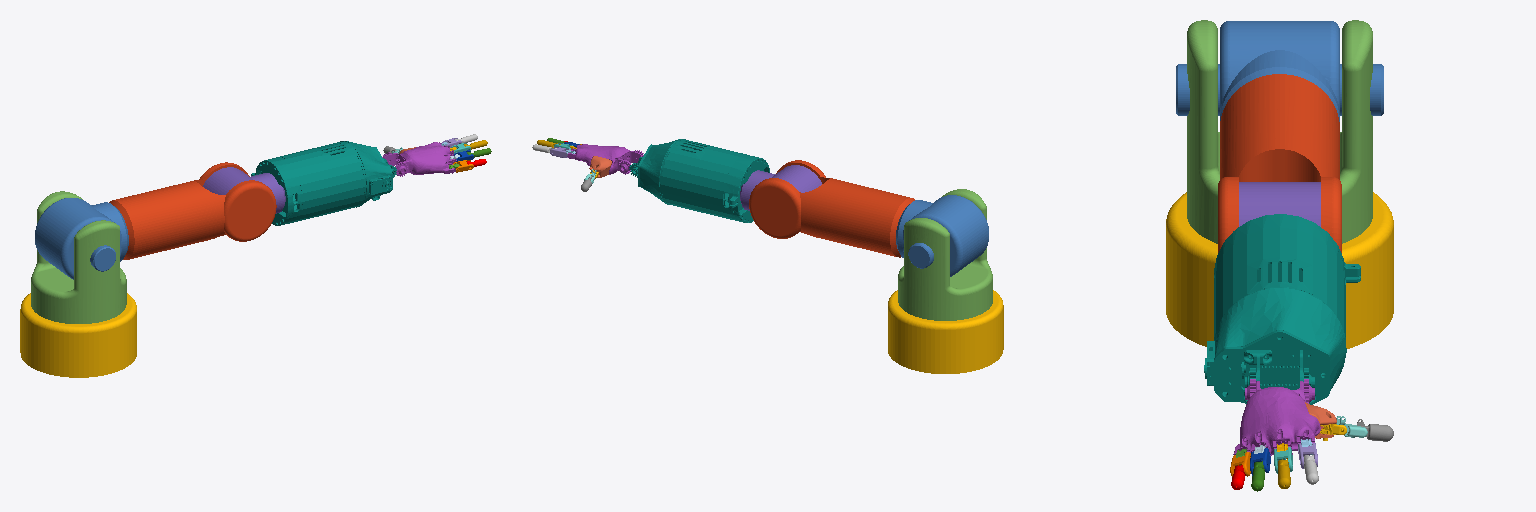
--- What the picture shows (computed from the rendered views, not written in the file) ---
3 views of the same robot in one strip: view 1: azimuth 30°, elevation 25°; view 2: azimuth 150°, elevation 25°; view 3: azimuth 270°, elevation 25° (orthographic).
Model [local-path]\Documents\NU robotics hand\hand teleop\arm_urdf with 25 links and 24 joints (24 revolute), rooted at ground, posed every joint at zero.
Links seen in each view (by area): view 1: upper_arm, base_2, base, ground, shoulder, palm_solid, elbow; view 2: upper_arm, base_2, base, ground, shoulder, elbow, palm_solid; view 3: base_2, upper_arm, base, ground, shoulder, palm_solid, elbow.
Link boxes in pixels (left/top/right/bottom): upper_arm: left=109, top=162, right=276, bottom=259; base_2: left=251, top=141, right=396, bottom=225; base: left=31, top=191, right=126, bottom=323; ground: left=20, top=293, right=136, bottom=377; shoulder: left=35, top=198, right=128, bottom=279; palm_solid: left=382, top=142, right=456, bottom=176; elbow: left=203, top=167, right=285, bottom=213; upper_arm: left=749, top=160, right=914, bottom=257; base_2: left=629, top=139, right=769, bottom=222; base: left=898, top=189, right=992, bottom=320; ground: left=888, top=290, right=1003, bottom=373; shoulder: left=896, top=195, right=988, bottom=276; elbow: left=740, top=165, right=821, bottom=210; palm_solid: left=567, top=144, right=643, bottom=174; base_2: left=1204, top=214, right=1360, bottom=404; upper_arm: left=1218, top=74, right=1341, bottom=252; base: left=1187, top=20, right=1372, bottom=243; ground: left=1166, top=192, right=1393, bottom=348; shoulder: left=1176, top=21, right=1383, bottom=121; palm_solid: left=1233, top=379, right=1320, bottom=455; elbow: left=1239, top=182, right=1320, bottom=226.
Bounding box of the posed robot: 1 × 0.2201 × 0.302 m (x, y, z).
Meshes: 26 distinct files referenced, 24 mesh visuals loaded (24 binary STL); not drawn: 3 (reference not matched to a file when rendering).

robot.urdf — [local-path]\Documents\NU robotics hand\hand teleop\arm_urdf:
<?xml version="1.0" ?>
<!-- Generated using onshape-to-robot -->
<!-- Onshape https://cad.onshape.com/documents/44d65dc8544a56cf71da3f0a/w/972a27a2efc9b3919ab3a95b/e/e91fcd8ebfee97c1ce23ea10 -->
<robot name="[local-path]\Documents\NU robotics hand\hand teleop\arm_urdf">
  <!-- Link ground -->
  <link name="ground">
    <inertial>
      <origin xyz="0 0 0" rpy="0 0 0"/>
      <mass value="1e-09"/>
      <inertia ixx="1e-09" ixy="0" ixz="0" iyy="1e-09" iyz="0" izz="1e-09"/>
    </inertial>
    <!-- Part ground -->
    <visual>
      <origin xyz="0 5.44968e-18 0.082" rpy="1.5708 -0 0"/>
      <geometry>
        <mesh filename="package://assets\ground.stl"/>
      </geometry>
      <material name="ground_material">
        <color rgba="1 0.756863 0.054902 1"/>
      </material>
    </visual>
    <collision>
      <origin xyz="0 5.44968e-18 0.082" rpy="1.5708 -0 0"/>
      <geometry>
        <mesh filename="package://assets\ground.stl"/>
      </geometry>
    </collision>
  </link>
  <!-- Link base -->
  <link name="base">
    <inertial>
      <origin xyz="0 -9.60797e-07 -0.132919" rpy="0 0 0"/>
      <mass value="2.40324"/>
      <inertia ixx="0.00456464" ixy="-6.7298e-07" ixz="6.7298e-07" iyy="0.029311" iyz="1.32847e-07" izz="0.029311"/>
    </inertial>
    <!-- Part actuator_single_part -->
    <visual>
      <origin xyz="-0.124008 9.36751e-17 -0.132918" rpy="-1.5708 -7.14845e-27 -1.5708"/>
      <geometry>
        <mesh filename="package://assets\actuator_single_part.stl"/>
      </geometry>
      <material name="actuator_single_part_material">
        <color rgba="0.917647 0.917647 0.917647 1"/>
      </material>
    </visual>
    <collision>
      <origin xyz="-0.124008 9.36751e-17 -0.132918" rpy="-1.5708 -7.14845e-27 -1.5708"/>
      <geometry>
        <mesh filename="package://assets\actuator_single_part.stl"/>
      </geometry>
    </collision>
    <!-- Part base -->
    <visual>
      <origin xyz="0 0 0.02" rpy="-1.5708 -0 6.41283e-50"/>
      <geometry>
        <mesh filename="package://assets\base.stl"/>
      </geometry>
      <material name="base_material">
        <color rgba="0.513725 0.737255 0.407843 1"/>
      </material>
    </visual>
    <collision>
      <origin xyz="0 0 0.02" rpy="-1.5708 -0 6.41283e-50"/>
      <geometry>
        <mesh filename="package://assets\base.stl"/>
      </geometry>
    </collision>
    <!-- Part actuator_single_part_2 -->
    <visual>
      <origin xyz="0.124008 -1.38152e-16 -0.132918" rpy="-3.14159 1.5708 0"/>
      <geometry>
        <mesh filename="package://assets\actuator_single_part.stl"/>
      </geometry>
      <material name="actuator_single_part_2_material">
        <color rgba="0.917647 0.917647 0.917647 1"/>
      </material>
    </visual>
    <collision>
      <origin xyz="0.124008 -1.38152e-16 -0.132918" rpy="-3.14159 1.5708 0"/>
      <geometry>
        <mesh filename="package://assets\actuator_single_part.stl"/>
      </geometry>
    </collision>
  </link>
  <!-- Link shoulder -->
  <link name="shoulder">
    <inertial>
      <origin xyz="0 0 0" rpy="0 0 0"/>
      <mass value="1e-09"/>
      <inertia ixx="1e-09" ixy="0" ixz="0" iyy="1e-09" iyz="0" izz="1e-09"/>
    </inertial>
    <!-- Part shoulder -->
    <visual>
      <origin xyz="-0.152918 1.22322e-17 -0.1" rpy="-1.5708 -1.5708 0"/>
      <geometry>
        <mesh filename="package://assets\shoulder.stl"/>
      </geometry>
      <material name="shoulder_material">
        <color rgba="0.32549 0.529412 0.752941 1"/>
      </material>
    </visual>
    <collision>
      <origin xyz="-0.152918 1.22322e-17 -0.1" rpy="-1.5708 -1.5708 0"/>
      <geometry>
        <mesh filename="package://assets\shoulder.stl"/>
      </geometry>
    </collision>
  </link>
  <!-- Link upper_arm -->
  <link name="upper_arm">
    <inertial>
      <origin xyz="0 0 0" rpy="0 0 0"/>
      <mass value="1e-09"/>
      <inertia ixx="1e-09" ixy="0" ixz="0" iyy="1e-09" iyz="0" izz="1e-09"/>
    </inertial>
    <!-- Part upper_arm -->
    <visual>
      <origin xyz="9.86076e-32 0.152918 0.08" rpy="3.14159 -4.32131e-33 4.23705e-33"/>
      <geometry>
        <mesh filename="package://assets\upper_arm.stl"/>
      </geometry>
      <material name="upper_arm_material">
        <color rgba="0.866667 0.321569 0.156863 1"/>
      </material>
    </visual>
    <collision>
      <origin xyz="9.86076e-32 0.152918 0.08" rpy="3.14159 -4.32131e-33 4.23705e-33"/>
      <geometry>
        <mesh filename="package://assets\upper_arm.stl"/>
      </geometry>
    </collision>
  </link>
  <!-- Link elbow -->
  <link name="elbow">
    <inertial>
      <origin xyz="0 0 0" rpy="0 0 0"/>
      <mass value="1e-09"/>
      <inertia ixx="1e-09" ixy="0" ixz="0" iyy="1e-09" iyz="0" izz="1e-09"/>
    </inertial>
    <!-- Part elbow -->
    <visual>
      <origin xyz="-0.152918 -0.34 -0.04" rpy="-1.5708 -1.5708 0"/>
      <geometry>
        <mesh filename="package://assets\elbow.stl"/>
      </geometry>
      <material name="elbow_material">
        <color rgba="0.513725 0.415686 0.733333 1"/>
      </material>
    </visual>
    <collision>
      <origin xyz="-0.152918 -0.34 -0.04" rpy="-1.5708 -1.5708 0"/>
      <geometry>
        <mesh filename="package://assets\elbow.stl"/>
      </geometry>
    </collision>
  </link>
  <!-- Link base_2 -->
  <link name="base_2">
    <inertial>
      <origin xyz="0 0 0" rpy="0 0 0"/>
      <mass value="1e-09"/>
      <inertia ixx="1e-09" ixy="0" ixz="0" iyy="1e-09" iyz="0" izz="1e-09"/>
    </inertial>
    <!-- Part base_2 -->
    <visual>
      <origin xyz="-0.00205515 0.0111278 -0.300889" rpy="-1.5708 -3.45716e-31 8.66668e-33"/>
      <geometry>
        <mesh filename="package://assets\base__2.stl"/>
      </geometry>
      <material name="base_2_material">
        <color rgba="0.0941176 0.580392 0.545098 1"/>
      </material>
    </visual>
    <collision>
      <origin xyz="-0.00205515 0.0111278 -0.300889" rpy="-1.5708 -3.45716e-31 8.66668e-33"/>
      <geometry>
        <mesh filename="package://assets\base__2.stl"/>
      </geometry>
    </collision>
  </link>
  <!-- Link intermediate_link -->
  <link name="intermediate_link">
    <inertial>
      <origin xyz="0 0 0" rpy="0 0 0"/>
      <mass value="1e-09"/>
      <inertia ixx="1e-09" ixy="0" ixz="0" iyy="1e-09" iyz="0" izz="1e-09"/>
    </inertial>
    <!-- Part intermediate_link -->
    <visual>
      <origin xyz="0.0683891 -0.00812779 0.0358367" rpy="1.5708 1.5708 0"/>
      <geometry>
        <mesh filename="package://assets\intermediate_link.stl"/>
      </geometry>
      <material name="intermediate_link_material">
        <color rgba="0.980392 0.713725 0.00392157 1"/>
      </material>
    </visual>
    <collision>
      <origin xyz="0.0683891 -0.00812779 0.0358367" rpy="1.5708 1.5708 0"/>
      <geometry>
        <mesh filename="package://assets\intermediate_link.stl"/>
      </geometry>
    </collision>
  </link>
  <!-- Link palm_solid -->
  <link name="palm_solid">
    <inertial>
      <origin xyz="0 0 0" rpy="0 0 0"/>
      <mass value="1e-09"/>
      <inertia ixx="1e-09" ixy="0" ixz="0" iyy="1e-09" iyz="0" izz="1e-09"/>
    </inertial>
    <!-- Part palm_solid -->
    <visual>
      <origin xyz="0.0431891 0.00812779 -0.0355367" rpy="-1.5708 -1.5708 0"/>
      <geometry>
        <mesh filename="package://assets\palm_solid.stl"/>
      </geometry>
      <material name="palm_solid_material">
        <color rgba="0.682353 0.333333 0.737255 1"/>
      </material>
    </visual>
    <collision>
      <origin xyz="0.0431891 0.00812779 -0.0355367" rpy="-1.5708 -1.5708 0"/>
      <geometry>
        <mesh filename="package://assets\palm_solid.stl"/>
      </geometry>
    </collision>
  </link>
  <!-- Link thumb_intermediate_v1 -->
  <link name="thumb_intermediate_v1">
    <inertial>
      <origin xyz="0 0 0" rpy="0 0 0"/>
      <mass value="1e-09"/>
      <inertia ixx="1e-09" ixy="0" ixz="0" iyy="1e-09" iyz="0" izz="1e-09"/>
    </inertial>
    <!-- Part thumb_intermediate_v1 -->
    <visual>
      <origin xyz="-0.00989613 -0.00238569 0.000259753" rpy="-1.31743 0.17263 8.53444e-18"/>
      <geometry>
        <mesh filename="package://assets\thumb_intermediate_v1.stl"/>
      </geometry>
      <material name="thumb_intermediate_v1_material">
        <color rgba="0.513725 0.737255 0.407843 1"/>
      </material>
    </visual>
    <collision>
      <origin xyz="-0.00989613 -0.00238569 0.000259753" rpy="-1.31743 0.17263 8.53444e-18"/>
      <geometry>
        <mesh filename="package://assets\thumb_intermediate_v1.stl"/>
      </geometry>
    </collision>
  </link>
  <!-- Link thumb_palm_section -->
  <link name="thumb_palm_section">
    <inertial>
      <origin xyz="0 0 0" rpy="0 0 0"/>
      <mass value="1e-09"/>
      <inertia ixx="1e-09" ixy="0" ixz="0" iyy="1e-09" iyz="0" izz="1e-09"/>
    </inertial>
    <!-- Part thumb_palm_section -->
    <visual>
      <origin xyz="-0.0217843 0.00434121 0.000740247" rpy="1.82417 -0.17263 -3.79536e-18"/>
      <geometry>
        <mesh filename="package://assets\thumb_palm_section.stl"/>
      </geometry>
      <material name="thumb_palm_section_material">
        <color rgba="0.87451 0.447059 0.317647 1"/>
      </material>
    </visual>
    <collision>
      <origin xyz="-0.0217843 0.00434121 0.000740247" rpy="1.82417 -0.17263 -3.79536e-18"/>
      <geometry>
        <mesh filename="package://assets\thumb_palm_section.stl"/>
      </geometry>
    </collision>
  </link>
  <!-- Link thumb_middle -->
  <link name="thumb_middle">
    <inertial>
      <origin xyz="0 0 0" rpy="0 0 0"/>
      <mass value="1e-09"/>
      <inertia ixx="1e-09" ixy="0" ixz="0" iyy="1e-09" iyz="0" izz="1e-09"/>
    </inertial>
    <!-- Part thumb_middle -->
    <visual>
      <origin xyz="-0.0477856 -0.00705829 -0.00679029" rpy="0.273385 0.114287 1.56584e-18"/>
      <geometry>
        <mesh filename="package://assets\thumb_middle.stl"/>
      </geometry>
      <material name="thumb_middle_material">
        <color rgba="1 0.756863 0.054902 1"/>
      </material>
    </visual>
    <collision>
      <origin xyz="-0.0477856 -0.00705829 -0.00679029" rpy="0.273385 0.114287 1.56584e-18"/>
      <geometry>
        <mesh filename="package://assets\thumb_middle.stl"/>
      </geometry>
    </collision>
  </link>
  <!-- Link thumb_middle_2 -->
  <link name="thumb_middle_2">
    <inertial>
      <origin xyz="0 0 0" rpy="0 0 0"/>
      <mass value="1e-09"/>
      <inertia ixx="1e-09" ixy="0" ixz="0" iyy="1e-09" iyz="0" izz="1e-09"/>
    </inertial>
    <!-- Part thumb_middle_2 -->
    <visual>
      <origin xyz="-0.0592938 -0.00820927 0.0104142" rpy="-1.31743 0.17263 1.27438e-17"/>
      <geometry>
        <mesh filename="package://assets\thumb_middle__2.stl"/>
      </geometry>
      <material name="thumb_middle_2_material">
        <color rgba="0.537255 0.854902 0.827451 1"/>
      </material>
    </visual>
    <collision>
      <origin xyz="-0.0592938 -0.00820927 0.0104142" rpy="-1.31743 0.17263 1.27438e-17"/>
      <geometry>
        <mesh filename="package://assets\thumb_middle__2.stl"/>
      </geometry>
    </collision>
  </link>
  <!-- Link thumb_tip -->
  <link name="thumb_tip">
    <inertial>
      <origin xyz="0 0 0" rpy="0 0 0"/>
      <mass value="1e-09"/>
      <inertia ixx="1e-09" ixy="0" ixz="0" iyy="1e-09" iyz="0" izz="1e-09"/>
    </inertial>
    <!-- Part thumb_tip -->
    <visual>
      <origin xyz="-0.0791251 -0.0108018 0.0122142" rpy="-1.31743 0.17263 -6.58129e-18"/>
      <geometry>
        <mesh filename="package://assets\thumb_tip.stl"/>
      </geometry>
      <material name="thumb_tip_material">
        <color rgba="0.6 0.6 0.6 1"/>
      </material>
    </visual>
    <collision>
      <origin xyz="-0.0791251 -0.0108018 0.0122142" rpy="-1.31743 0.17263 -6.58129e-18"/>
      <geometry>
        <mesh filename="package://assets\thumb_tip.stl"/>
      </geometry>
    </collision>
  </link>
  <!-- Joint from thumb_middle_2 to thumb_tip -->
  <joint name="thumb_4" type="revolute">
    <origin xyz="0.0198655 0.00231518 -0.00175" rpy="1.49558e-16 1.46949e-15 -9.24631e-17"/>
    <parent link="thumb_middle_2"/>
    <child link="thumb_tip"/>
    <axis xyz="0 0 1"/>
    <limit effort="10" velocity="10" lower="0" upper="1.5708"/>
  </joint>
  <!-- Joint from thumb_middle to thumb_middle_2 -->
  <joint name="thumb_3" type="revolute">
    <origin xyz="0.0128901 -0.0075423 -0.0055" rpy="1.5708 0.116019 -0.173775"/>
    <parent link="thumb_middle"/>
    <child link="thumb_middle_2"/>
    <axis xyz="0 0 1"/>
    <limit effort="10" velocity="10" lower="0" upper="1.5708"/>
  </joint>
  <!-- Joint from thumb_palm_section to thumb_middle -->
  <joint name="thumb_abd" type="revolute">
    <origin xyz="0.0230132 -0.00731315 0.0159544" rpy="1.5708 -0.173775 -0.116019"/>
    <parent link="thumb_palm_section"/>
    <child link="thumb_middle"/>
    <axis xyz="0 0 1"/>
    <limit effort="10" velocity="10" lower="-0.174533" upper="1.5708"/>
  </joint>
  <!-- Joint from thumb_intermediate_v1 to thumb_palm_section -->
  <joint name="thumb_2" type="revolute">
    <origin xyz="0.0118882 0.00195552 8.88178e-16" rpy="3.14159 5.97132e-17 1.21313e-17"/>
    <parent link="thumb_intermediate_v1"/>
    <child link="thumb_palm_section"/>
    <axis xyz="0 0 1"/>
    <limit effort="10" velocity="10" lower="-3.141592653589793" upper="3.141592653589793"/>
    <mimic joint="thumb_1" multiplier="-1.0"/>
  </joint>
  <!-- Joint from palm_solid to thumb_intermediate_v1 -->
  <joint name="thumb_1" type="revolute">
    <origin xyz="0.0415321 0.0113204 -0.0257823" rpy="3.14159 -1.39817 2.88822"/>
    <parent link="palm_solid"/>
    <child link="thumb_intermediate_v1"/>
    <axis xyz="0 0 1"/>
    <limit effort="10" velocity="10" lower="0" upper="0.785398"/>
  </joint>
  <!-- Link finger_intermediate -->
  <link name="finger_intermediate">
    <inertial>
      <origin xyz="0 0 0" rpy="0 0 0"/>
      <mass value="1e-09"/>
      <inertia ixx="1e-09" ixy="0" ixz="0" iyy="1e-09" iyz="0" izz="1e-09"/>
    </inertial>
    <!-- Part finger_intermediate -->
    <visual>
      <origin xyz="0.0164705 -0.0600499 -0.0337993" rpy="-0.25043 1.21142 -7.14711e-17"/>
      <geometry>
        <mesh filename="package://assets\finger_intermediate.stl"/>
      </geometry>
      <material name="finger_intermediate_material">
        <color rgba="0.372549 0.654902 0.239216 1"/>
      </material>
    </visual>
    <collision>
      <origin xyz="0.0164705 -0.0600499 -0.0337993" rpy="-0.25043 1.21142 -7.14711e-17"/>
      <geometry>
        <mesh filename="package://assets\finger_intermediate.stl"/>
      </geometry>
    </collision>
  </link>
  <!-- Link pinky_finger_middle -->
  <link name="pinky_finger_middle">
    <inertial>
      <origin xyz="0 0 0" rpy="0 0 0"/>
      <mass value="1e-09"/>
      <inertia ixx="1e-09" ixy="0" ixz="0" iyy="1e-09" iyz="0" izz="1e-09"/>
    </inertial>
    <!-- Part pinky_finger_middle -->
    <visual>
      <origin xyz="0.0196463 0.0716718 0.0337993" rpy="2.89116 -1.21142 -3.78033e-17"/>
      <geometry>
        <mesh filename="package://assets\pinky_finger_middle.stl"/>
      </geometry>
      <material name="pinky_finger_middle_material">
        <color rgba="0.972549 0.529412 0.00392157 1"/>
      </material>
    </visual>
    <collision>
      <origin xyz="0.0196463 0.0716718 0.0337993" rpy="2.89116 -1.21142 -3.78033e-17"/>
      <geometry>
        <mesh filename="package://assets\pinky_finger_middle.stl"/>
      </geometry>
    </collision>
  </link>
  <!-- Link pinky_finger_tip -->
  <link name="pinky_finger_tip">
    <inertial>
      <origin xyz="0 0 0" rpy="0 0 0"/>
      <mass value="1e-09"/>
      <inertia ixx="1e-09" ixy="0" ixz="0" iyy="1e-09" iyz="0" izz="1e-09"/>
    </inertial>
    <!-- Part pinky_finger_tip -->
    <visual>
      <origin xyz="0.0262361 -0.0957876 -0.0337993" rpy="-0.25043 1.21142 -2.01428e-17"/>
      <geometry>
        <mesh filename="package://assets\pinky_finger_tip.stl"/>
      </geometry>
      <material name="pinky_finger_tip_material">
        <color rgba="1 0 0 1"/>
      </material>
    </visual>
    <collision>
      <origin xyz="0.0262361 -0.0957876 -0.0337993" rpy="-0.25043 1.21142 -2.01428e-17"/>
      <geometry>
        <mesh filename="package://assets\pinky_finger_tip.stl"/>
      </geometry>
    </collision>
  </link>
  <!-- Joint from pinky_finger_middle to pinky_finger_tip -->
  <joint name="pinky_3" type="revolute">
    <origin xyz="-0.00658981 -0.0241159 1.38778e-17" rpy="-3.14159 5.60477e-17 -4.80606e-14"/>
    <parent link="pinky_finger_middle"/>
    <child link="pinky_finger_tip"/>
    <axis xyz="0 0 1"/>
    <limit effort="10" velocity="10" lower="-1.91986" upper="4.79616e-14"/>
  </joint>
  <!-- Joint from finger_intermediate to pinky_finger_middle -->
  <joint name="pinky_2" type="revolute">
    <origin xyz="-0.00317575 0.0116219 -4.16334e-17" rpy="3.14159 -1.74128e-16 -5.94739e-16"/>
    <parent link="finger_intermediate"/>
    <child link="pinky_finger_middle"/>
    <axis xyz="0 0 1"/>
    <limit effort="10" velocity="10" lower="0" upper="0.785398"/>
    <mimic joint="pinky_1" multiplier="-1.0"/>
  </joint>
  <!-- Joint from palm_solid to finger_intermediate -->
  <joint name="pinky_1" type="revolute">
    <origin xyz="0.102144 0.0193138 -0.0731018" rpy="3.14159 -0.359375 1.82123"/>
    <parent link="palm_solid"/>
    <child link="finger_intermediate"/>
    <axis xyz="0 0 1"/>
    <limit effort="10" velocity="10" lower="-0.785398" upper="0"/>
  </joint>
  <!-- Link index_finger_intermediate -->
  <link name="index_finger_intermediate">
    <inertial>
      <origin xyz="0 0 0" rpy="0 0 0"/>
      <mass value="1e-09"/>
      <inertia ixx="1e-09" ixy="0" ixz="0" iyy="1e-09" iyz="0" izz="1e-09"/>
    </inertial>
    <!-- Part index_finger_intermediate -->
    <visual>
      <origin xyz="-0.0611244 -0.0420268 0.0174182" rpy="1.04885 1.48361 5.54537e-17"/>
      <geometry>
        <mesh filename="package://assets\index_finger_intermediate.stl"/>
      </geometry>
      <material name="index_finger_intermediate_material">
        <color rgba="0.615686 0.811765 0.929412 1"/>
      </material>
    </visual>
    <collision>
      <origin xyz="-0.0611244 -0.0420268 0.0174182" rpy="1.04885 1.48361 5.54537e-17"/>
      <geometry>
        <mesh filename="package://assets\index_finger_intermediate.stl"/>
      </geometry>
    </collision>
  </link>
  <!-- Link hand_v2_index_finger_middle_v1 -->
  <link name="hand_v2_index_finger_middle_v1">
    <inertial>
      <origin xyz="0 0 0" rpy="0 0 0"/>
      <mass value="1e-09"/>
      <inertia ixx="1e-09" ixy="0" ixz="0" iyy="1e-09" iyz="0" izz="1e-09"/>
    </inertial>
    <!-- Part hand_v2_index_finger_middle_v1 -->
    <visual>
      <origin xyz="-0.0715781 -0.0480165 0.0274182" rpy="1.04885 1.48361 -4.8223e-17"/>
      <geometry>
        <mesh filename="package://assets\hand_v2_index_finger_middle_v1.stl"/>
      </geometry>
      <material name="hand_v2_index_finger_middle_v1_material">
        <color rgba="0.654902 0.584314 0.823529 1"/>
      </material>
    </visual>
    <collision>
      <origin xyz="-0.0715781 -0.0480165 0.0274182" rpy="1.04885 1.48361 -4.8223e-17"/>
      <geometry>
        <mesh filename="package://assets\hand_v2_index_finger_middle_v1.stl"/>
      </geometry>
    </collision>
  </link>
  <!-- Link hand_v2_index_finger_tip_v1 -->
  <link name="hand_v2_index_finger_tip_v1">
    <inertial>
      <origin xyz="0 0 0" rpy="0 0 0"/>
      <mass value="1e-09"/>
      <inertia ixx="1e-09" ixy="0" ixz="0" iyy="1e-09" iyz="0" izz="1e-09"/>
    </inertial>
    <!-- Part hand_v2_index_finger_tip_v1 -->
    <visual>
      <origin xyz="-0.0932697 0.0604451 -0.0274182" rpy="-2.09275 -1.48361 1.2301e-17"/>
      <geometry>
        <mesh filename="package://assets\hand_v2_index_finger_tip_v1.stl"/>
      </geometry>
      <material name="hand_v2_index_finger_tip_v1_material">
        <color rgba="0.8 0.8 0.8 1"/>
      </material>
    </visual>
    <collision>
      <origin xyz="-0.0932697 0.0604451 -0.0274182" rpy="-2.09275 -1.48361 1.2301e-17"/>
      <geometry>
        <mesh filename="package://assets\hand_v2_index_finger_tip_v1.stl"/>
      </geometry>
    </collision>
  </link>
  <!-- Joint from hand_v2_index_finger_middle_v1 to hand_v2_index_finger_tip_v1 -->
  <joint name="index_3" type="revolute">
    <origin xyz="0.0216917 0.0124287 -5.55112e-17" rpy="-3.14159 -1.11923e-14 9.36753e-14"/>
    <parent link="hand_v2_index_finger_middle_v1"/>
    <child link="hand_v2_index_finger_tip_v1"/>
    <axis xyz="0 0 1"/>
    <limit effort="10" velocity="10" lower="0" upper="1.91986"/>
  </joint>
  <!-- Joint from index_finger_intermediate to hand_v2_index_finger_middle_v1 -->
  <joint name="index_2" type="revolute">
    <origin xyz="0.0104536 0.00598961 -0.01" rpy="-2.68081e-15 -7.18816e-15 -6.37445e-15"/>
    <parent link="index_finger_intermediate"/>
    <child link="hand_v2_index_finger_middle_v1"/>
    <axis xyz="0 0 1"/>
    <limit effort="10" velocity="10" lower="-0.785398" upper="7.10543e-15"/>
    <mimic joint="index_1" multiplier="1.0"/>
  </joint>
  <!-- Joint from palm_solid to index_finger_intermediate -->
  <joint name="index_1" type="revolute">
    <origin xyz="0.115516 0.00102561 -0.0129949" rpy="-3.14159 -0.0871834 0.521949"/>
    <parent link="palm_solid"/>
    <child link="index_finger_intermediate"/>
    <axis xyz="0 0 1"/>
    <limit effort="10" velocity="10" lower="-0.785398" upper="7.10543e-15"/>
  </joint>
  <!-- Link middle_finger_intermediate -->
  <link name="middle_finger_intermediate">
    <inertial>
      <origin xyz="0 0 0" rpy="0 0 0"/>
      <mass value="1e-09"/>
      <inertia ixx="1e-09" ixy="0" ixz="0" iyy="1e-09" iyz="0" izz="1e-09"/>
    </inertial>
    <!-- Part middle_finger_intermediate -->
    <visual>
      <origin xyz="-0.00399892 -0.0775232 -0.000461794" rpy="0.103486 1.41091 -3.43453e-18"/>
      <geometry>
        <mesh filename="package://assets\middle_finger_intermediate.stl"/>
      </geometry>
      <material name="middle_finger_intermediate_material">
        <color rgba="0.980392 0.713725 0.00392157 1"/>
      </material>
    </visual>
    <collision>
      <origin xyz="-0.00399892 -0.0775232 -0.000461794" rpy="0.103486 1.41091 -3.43453e-18"/>
      <geometry>
        <mesh filename="package://assets\middle_finger_intermediate.stl"/>
      </geometry>
    </collision>
  </link>
  <!-- Link hand_v2_middle_finger_middle_v1 -->
  <link name="hand_v2_middle_finger_middle_v1">
    <inertial>
      <origin xyz="0 0 0" rpy="0 0 0"/>
      <mass value="1e-09"/>
      <inertia ixx="1e-09" ixy="0" ixz="0" iyy="1e-09" iyz="0" izz="1e-09"/>
    </inertial>
    <!-- Part hand_v2_middle_finger_middle_v1 -->
    <visual>
      <origin xyz="-0.00525939 0.0895051 0.000461794" rpy="-3.03811 -1.41091 -5.9674e-18"/>
      <geometry>
        <mesh filename="package://assets\hand_v2_middle_finger_middle_v1.stl"/>
      </geometry>
      <material name="hand_v2_middle_finger_middle_v1_material">
        <color rgba="0.341176 0.776471 0.741176 1"/>
      </material>
    </visual>
    <collision>
      <origin xyz="-0.00525939 0.0895051 0.000461794" rpy="-3.03811 -1.41091 -5.9674e-18"/>
      <geometry>
        <mesh filename="package://assets\hand_v2_middle_finger_middle_v1.stl"/>
      </geometry>
    </collision>
  </link>
  <!-- Link hand_v2_middle_finger_tip_v1 -->
  <link name="hand_v2_middle_finger_tip_v1">
    <inertial>
      <origin xyz="0 0 0" rpy="0 0 0"/>
      <mass value="1e-09"/>
      <inertia ixx="1e-09" ixy="0" ixz="0" iyy="1e-09" iyz="0" izz="1e-09"/>
    </inertial>
    <!-- Part hand_v2_middle_finger_tip_v1 -->
    <visual>
      <origin xyz="-0.00787492 0.114368 -0.00953821" rpy="-3.03811 -1.41091 -1.00342e-17"/>
      <geometry>
        <mesh filename="package://assets\hand_v2_middle_finger_tip_v1.stl"/>
      </geometry>
      <material name="hand_v2_middle_finger_tip_v1_material">
        <color rgba="0.823529 0.623529 0.0352941 1"/>
      </material>
    </visual>
    <collision>
      <origin xyz="-0.00787492 0.114368 -0.00953821" rpy="-3.03811 -1.41091 -1.00342e-17"/>
      <geometry>
        <mesh filename="package://assets\hand_v2_middle_finger_tip_v1.stl"/>
      </geometry>
    </collision>
  </link>
  <!-- Joint from hand_v2_middle_finger_middle_v1 to hand_v2_middle_finger_tip_v1 -->
  <joint name="middle_3" type="revolute">
    <origin xyz="0.00261552 -0.0248628 0.01" rpy="-8.89632e-16 1.59466e-16 -1.26217e-13"/>
    <parent link="hand_v2_middle_finger_middle_v1"/>
    <child link="hand_v2_middle_finger_tip_v1"/>
    <axis xyz="0 0 1"/>
    <limit effort="10" velocity="10" lower="0" upper="1.91986"/>
  </joint>
  <!-- Joint from middle_finger_intermediate to hand_v2_middle_finger_middle_v1 -->
  <joint name="middle_2" type="revolute">
    <origin xyz="0.00126047 0.0119819 -3.46945e-18" rpy="-3.14159 2.22814e-17 9.10685e-16"/>
    <parent link="middle_finger_intermediate"/>
    <child link="hand_v2_middle_finger_middle_v1"/>
    <axis xyz="0 0 1"/>
    <limit effort="10" velocity="10" lower="-8.88178e-16" upper="0.785398"/>
  </joint>
  <!-- Joint from palm_solid to middle_finger_intermediate -->
  <joint name="middle_1" type="revolute">
    <origin xyz="0.120616 0.00384527 -0.0354885" rpy="3.14159 -0.159882 1.46731"/>
    <parent link="palm_solid"/>
    <child link="middle_finger_intermediate"/>
    <axis xyz="0 0 1"/>
    <limit effort="10" velocity="10" lower="-0.785398" upper="8.88178e-16"/>
    <mimic joint="middle_2" multiplier="-1.0"/>
  </joint>
  <!-- Link ring_finger_intermediate -->
  <link name="ring_finger_intermediate">
    <inertial>
      <origin xyz="0 0 0" rpy="0 0 0"/>
      <mass value="1e-09"/>
      <inertia ixx="1e-09" ixy="0" ixz="0" iyy="1e-09" iyz="0" izz="1e-09"/>
    </inertial>
    <!-- Part ring_finger_intermediate -->
    <visual>
      <origin xyz="0.0163093 -0.0699225 -0.01635" rpy="-0.184188 1.2871 -2.49666e-18"/>
      <geometry>
        <mesh filename="package://assets\ring_finger_intermediate.stl"/>
      </geometry>
      <material name="ring_finger_intermediate_material">
        <color rgba="0.768627 0.886275 0.952941 1"/>
      </material>
    </visual>
    <collision>
      <origin xyz="0.0163093 -0.0699225 -0.01635" rpy="-0.184188 1.2871 -2.49666e-18"/>
      <geometry>
        <mesh filename="package://assets\ring_finger_intermediate.stl"/>
      </geometry>
    </collision>
  </link>
  <!-- Link large_finger_middle -->
  <link name="large_finger_middle">
    <inertial>
      <origin xyz="0 0 0" rpy="0 0 0"/>
      <mass value="1e-09"/>
      <inertia ixx="1e-09" ixy="0" ixz="0" iyy="1e-09" iyz="0" izz="1e-09"/>
    </inertial>
    <!-- Part large_finger_middle -->
    <visual>
      <origin xyz="0.0186045 0.0817499 0.01635" rpy="2.9574 -1.2871 -1.41348e-17"/>
      <geometry>
        <mesh filename="package://assets\large_finger_middle.stl"/>
      </geometry>
      <material name="large_finger_middle_material">
        <color rgba="0.0862745 0.317647 0.690196 1"/>
      </material>
    </visual>
    <collision>
      <origin xyz="0.0186045 0.0817499 0.01635" rpy="2.9574 -1.2871 -1.41348e-17"/>
      <geometry>
        <mesh filename="package://assets\large_finger_middle.stl"/>
      </geometry>
    </collision>
  </link>
  <!-- Link large_finger_tip -->
  <link name="large_finger_tip">
    <inertial>
      <origin xyz="0 0 0" rpy="0 0 0"/>
      <mass value="1e-09"/>
      <inertia ixx="1e-09" ixy="0" ixz="0" iyy="1e-09" iyz="0" izz="1e-09"/>
    </inertial>
    <!-- Part large_finger_tip -->
    <visual>
      <origin xyz="0.023367 0.106292 0.00635002" rpy="2.9574 -1.2871 -7.00224e-18"/>
      <geometry>
        <mesh filename="package://assets\large_finger_tip.stl"/>
      </geometry>
      <material name="large_finger_tip_material">
        <color rgba="0.282353 0.54902 0.160784 1"/>
      </material>
    </visual>
    <collision>
      <origin xyz="0.023367 0.106292 0.00635002" rpy="2.9574 -1.2871 -7.00224e-18"/>
      <geometry>
        <mesh filename="package://assets\large_finger_tip.stl"/>
      </geometry>
    </collision>
  </link>
  <!-- Joint from large_finger_middle to large_finger_tip -->
  <joint name="ring_3" type="revolute">
    <origin xyz="-0.00476256 -0.0245422 0.01" rpy="1.57715e-14 1.22998e-14 -1.57971e-13"/>
    <parent link="large_finger_middle"/>
    <child link="large_finger_tip"/>
    <axis xyz="0 0 1"/>
    <limit effort="10" velocity="10" lower="0" upper="1.91986"/>
  </joint>
  <!-- Joint from ring_finger_intermediate to large_finger_middle -->
  <joint name="ring_2" type="revolute">
    <origin xyz="-0.00229517 0.0118273 0" rpy="3.14159 1.18195e-14 -1.20053e-14"/>
    <parent link="ring_finger_intermediate"/>
    <child link="large_finger_middle"/>
    <axis xyz="0 0 1"/>
    <limit effort="10" velocity="10" lower="0" upper="0.785398"/>
    <mimic joint="ring_1" multiplier="-1.0"/>
  </joint>
  <!-- Joint from palm_solid to ring_finger_intermediate -->
  <joint name="ring_1" type="revolute">
    <origin xyz="0.113862 0.00976619 -0.0559307" rpy="-3.14159 -0.283692 1.75498"/>
    <parent link="palm_solid"/>
    <child link="ring_finger_intermediate"/>
    <axis xyz="0 0 1"/>
    <limit effort="10" velocity="10" lower="-0.785398" upper="0"/>
  </joint>
  <!-- Joint from intermediate_link to palm_solid -->
  <joint name="wrist_2" type="revolute">
    <origin xyz="0.0252 2.77556e-17 -2.22045e-16" rpy="3.14159 4.90528e-15 -2.48676e-30"/>
    <parent link="intermediate_link"/>
    <child link="palm_solid"/>
    <axis xyz="0 0 1"/>
    <limit effort="10" velocity="10" lower="-0.785398" upper="0.785398"/>
    <mimic joint="wrist_1" multiplier="-1.0"/>
  </joint>
  <!-- Joint from base_2 to intermediate_link -->
  <joint name="wrist_1" type="revolute">
    <origin xyz="0.0334815 0.003 -0.2325" rpy="3.14159 1.5708 0"/>
    <parent link="base_2"/>
    <child link="intermediate_link"/>
    <axis xyz="0 0 1"/>
    <limit effort="10" velocity="10" lower="-0.785398" upper="0.785398"/>
  </joint>
  <!-- Joint from elbow to base_2 -->
  <joint name="forearm" type="revolute">
    <origin xyz="-5.55112e-16 0.09 -0.04" rpy="1.5708 -1.5708 0"/>
    <parent link="elbow"/>
    <child link="base_2"/>
    <axis xyz="0 0 1"/>
    <limit effort="10" velocity="10" lower="-3.141592653589793" upper="3.141592653589793"/>
  </joint>
  <!-- Joint from upper_arm to elbow -->
  <joint name="elbow" type="revolute">
    <origin xyz="0.04 -1.38778e-16 -0.26" rpy="-1.5708 3.46945e-16 -1.5708"/>
    <parent link="upper_arm"/>
    <child link="elbow"/>
    <axis xyz="0 0 1"/>
    <limit effort="10" velocity="10" lower="-3.141592653589793" upper="3.141592653589793"/>
  </joint>
  <!-- Joint from shoulder to upper_arm -->
  <joint name="shoulder_roll" type="revolute">
    <origin xyz="-2.77556e-17 0.08 -0.1" rpy="1.5708 -1.5708 0"/>
    <parent link="shoulder"/>
    <child link="upper_arm"/>
    <axis xyz="0 0 1"/>
    <limit effort="10" velocity="10" lower="-3.141592653589793" upper="3.141592653589793"/>
  </joint>
  <!-- Joint from base to shoulder -->
  <joint name="shoulder_pitch" type="revolute">
    <origin xyz="0.1 -8.21518e-18 -0.132918" rpy="-1.40164e-43 1.5708 0"/>
    <parent link="base"/>
    <child link="shoulder"/>
    <axis xyz="0 0 1"/>
    <limit effort="10" velocity="10" lower="-3.141592653589793" upper="3.141592653589793"/>
  </joint>
  <!-- Joint from ground to base -->
  <joint name="base" type="revolute">
    <origin xyz="-9.53188e-29 5.44968e-18 0.102" rpy="-3.14159 -2.08167e-17 1.5708"/>
    <parent link="ground"/>
    <child link="base"/>
    <axis xyz="0 0 1"/>
    <limit effort="10" velocity="10" lower="-3.141592653589793" upper="3.141592653589793"/>
  </joint>
</robot>
